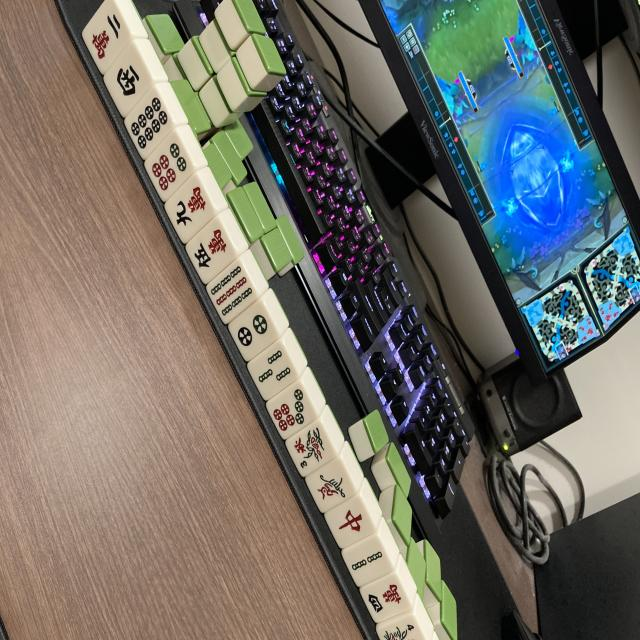ff3: (286, 420, 338, 478)
ff4: (376, 613, 429, 640)
m2: (80, 0, 132, 74)
m4: (360, 572, 412, 625)
m5: (184, 217, 242, 284)
m9: (162, 172, 220, 243)
s1: (305, 461, 356, 514)
s2: (341, 536, 394, 588)
s3: (250, 342, 296, 393)
s9: (205, 261, 258, 322)
t2: (226, 299, 280, 362)
t6: (143, 132, 200, 202)
t7: (265, 382, 319, 442)
t8: (122, 89, 178, 160)
west: (102, 43, 155, 116)
zhong: (325, 497, 377, 550)
